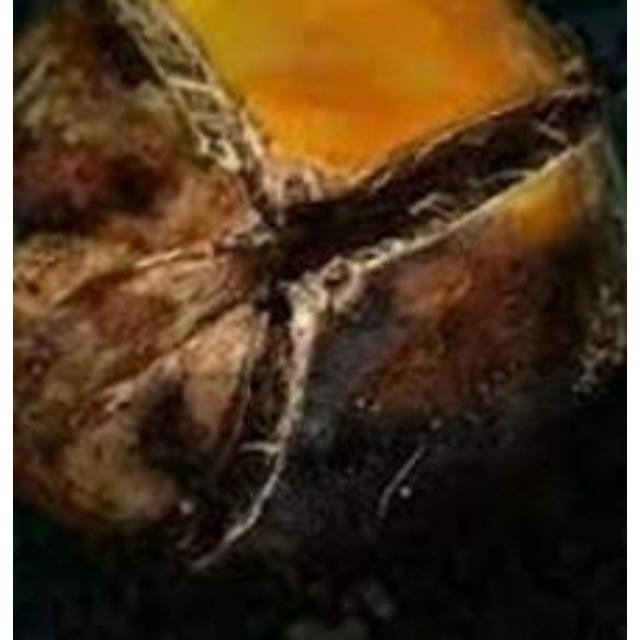damaged: (13, 0, 625, 618)
